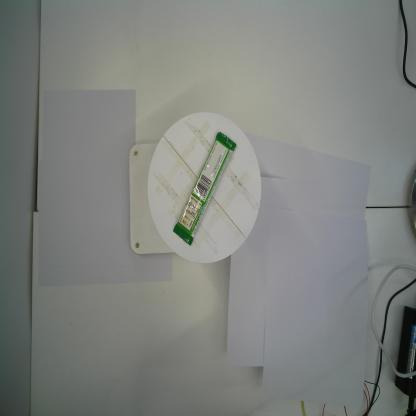Chocolate: (173, 130, 238, 246)
